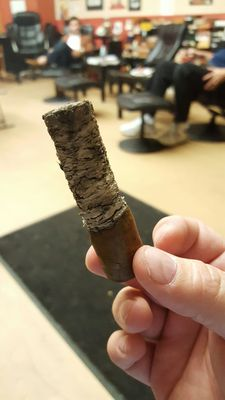pasta: (117, 61, 177, 138)
